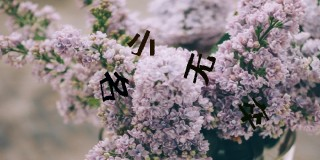卒: (239, 98, 270, 130)
名: (97, 69, 131, 102)
小: (128, 27, 156, 57)
无: (183, 51, 216, 85)
